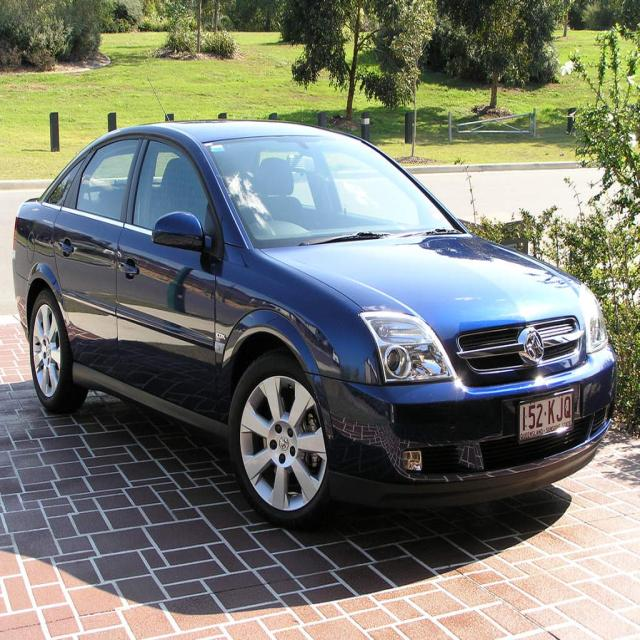car: (10, 75, 616, 532)
